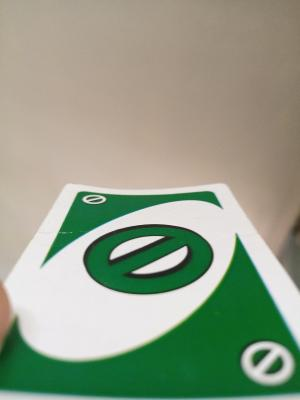green: (71, 208, 250, 381)
skip: (80, 189, 109, 211)
